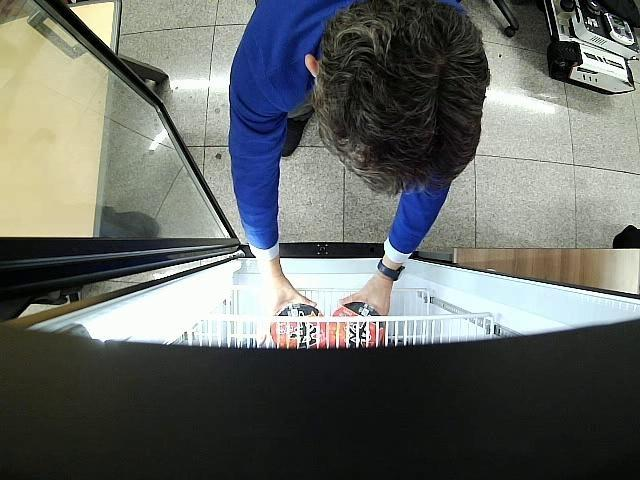01_ShinRamen_L: (329, 301, 386, 348), (271, 303, 326, 348)
